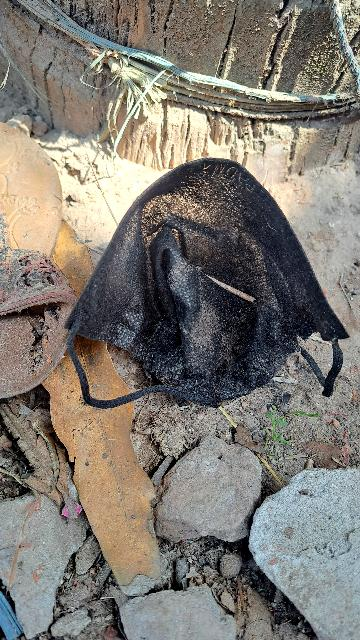mask: (38, 144, 351, 455)
